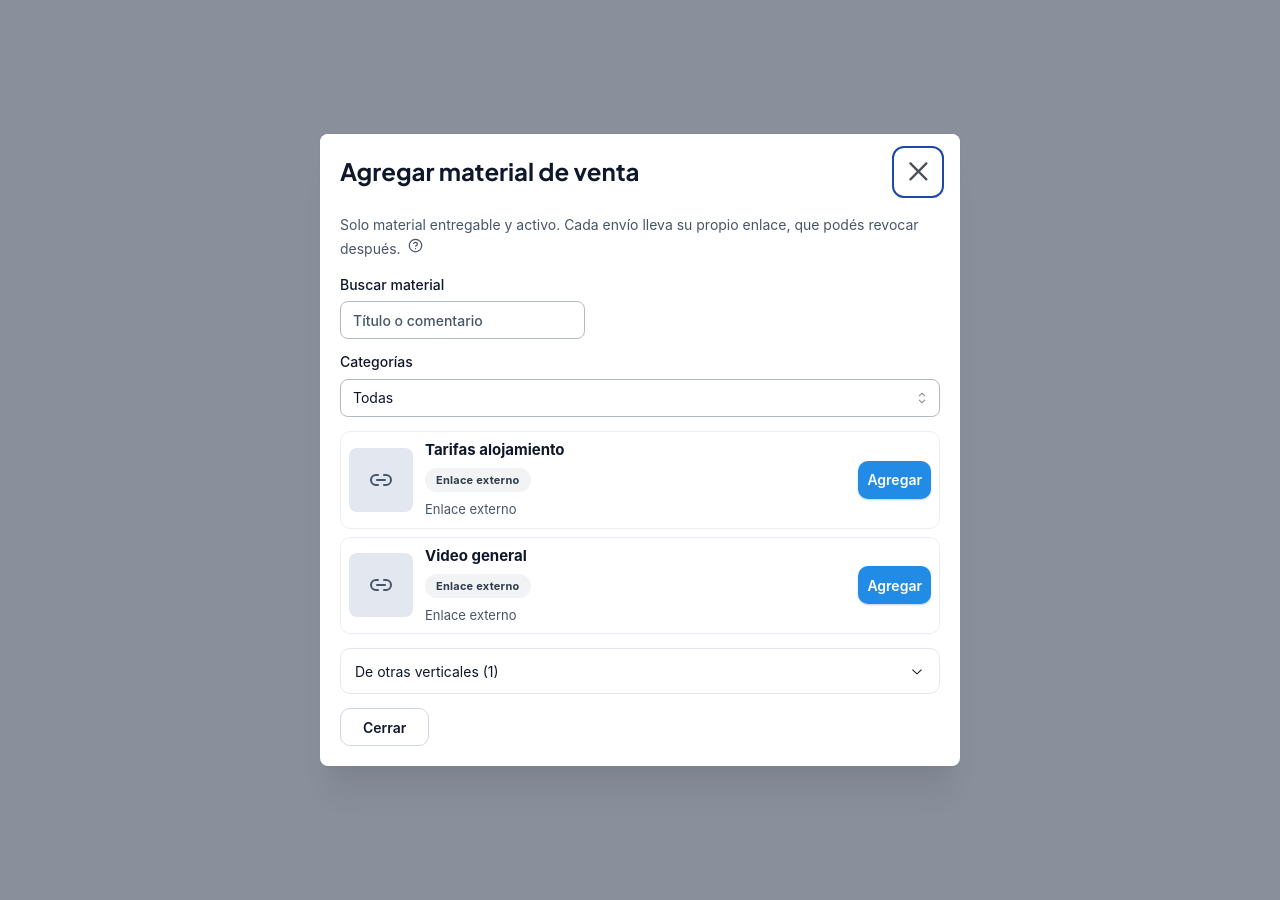
SalesMaterialPicker (spec 102 D3) › asks for the context vertical and shows its material and the one for all verticals on top, the rest folded
The width and height of the screenshot is (1280, 900).
Expected: the heading "Tarifas alojamiento" is shown, 425,440 -> 564,459
Click the button "De otras verticales (1)". click: (421, 671)
box: 341,649 -> 939,693
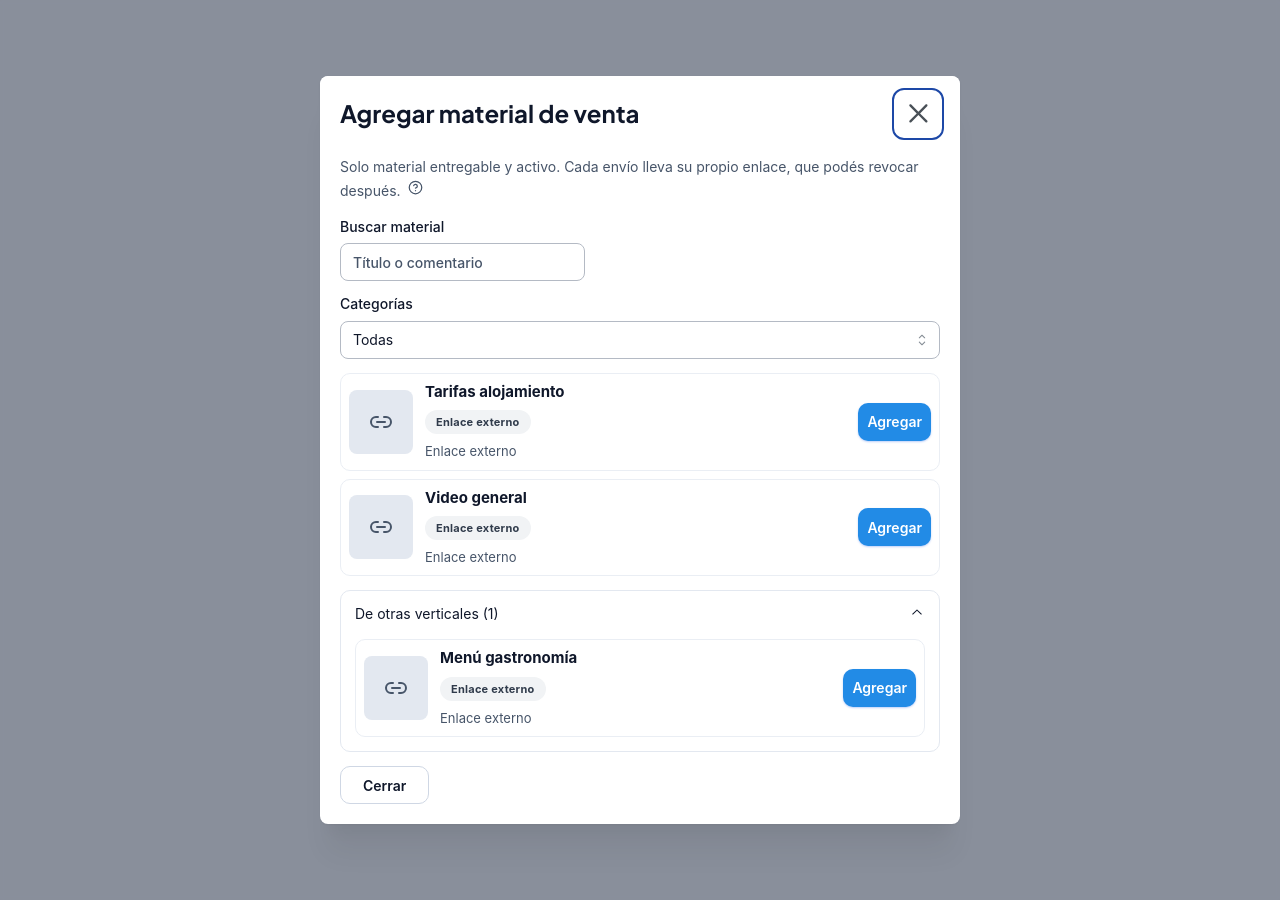
Expected: the button "De otras verticales (1)" is expanded, 341,591 -> 939,635
